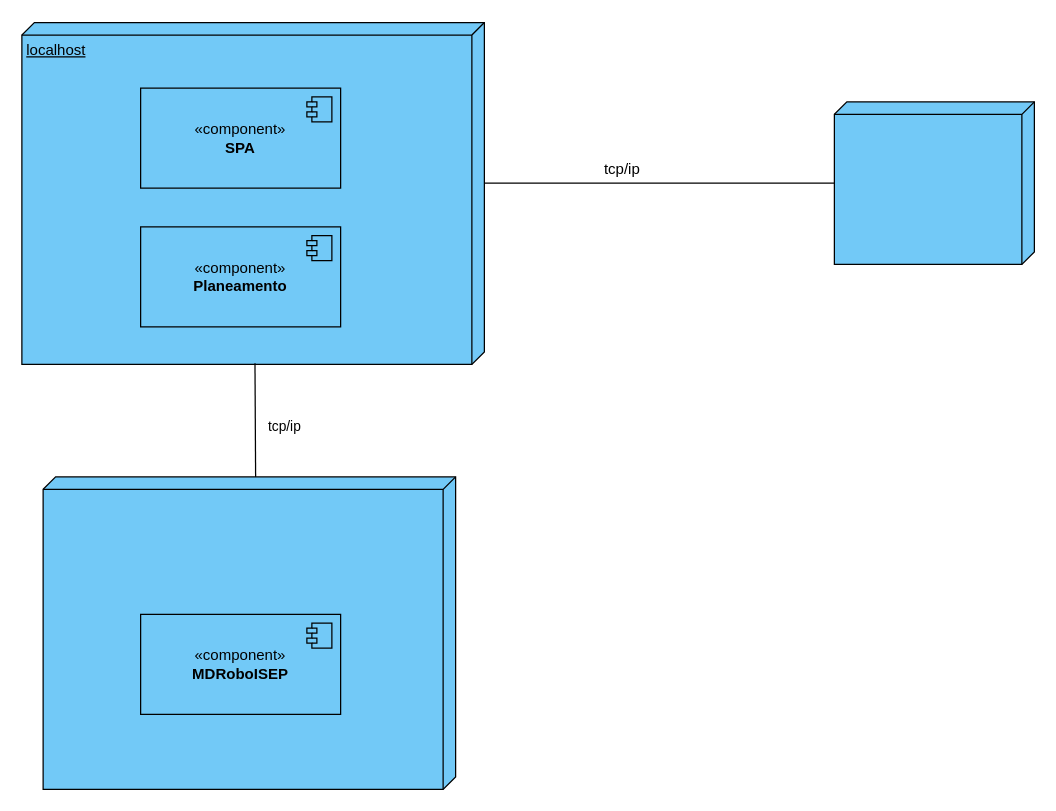
This 1056x811 diagram has some shape labels left out. Here are the shapes that lost their labels. From the top down, the box of each, then its label:
(833, 101, 1034, 264): MongoDB - Atlas
(42, 476, 456, 789): VM DEI
